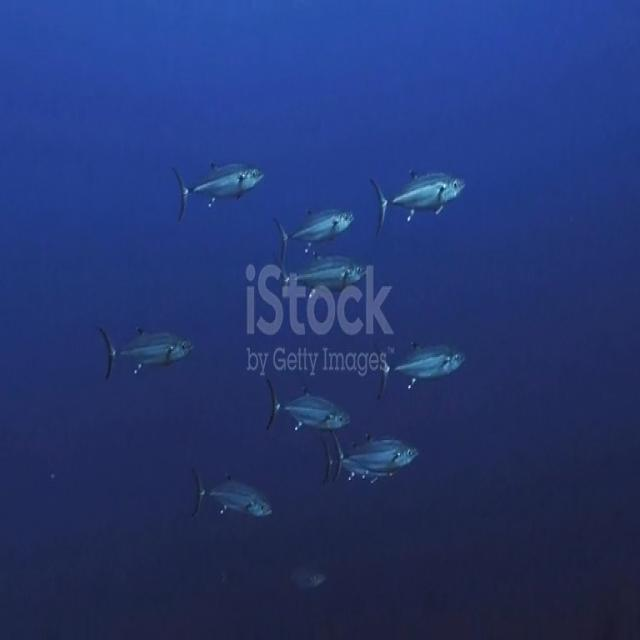fish: (190, 461, 276, 531), (369, 172, 466, 234), (266, 370, 349, 439), (371, 342, 469, 399), (98, 323, 196, 380), (172, 159, 264, 219), (280, 250, 364, 308), (274, 209, 358, 259), (337, 434, 424, 478)
